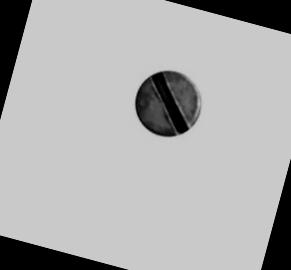slotted: (125, 60, 210, 146)
